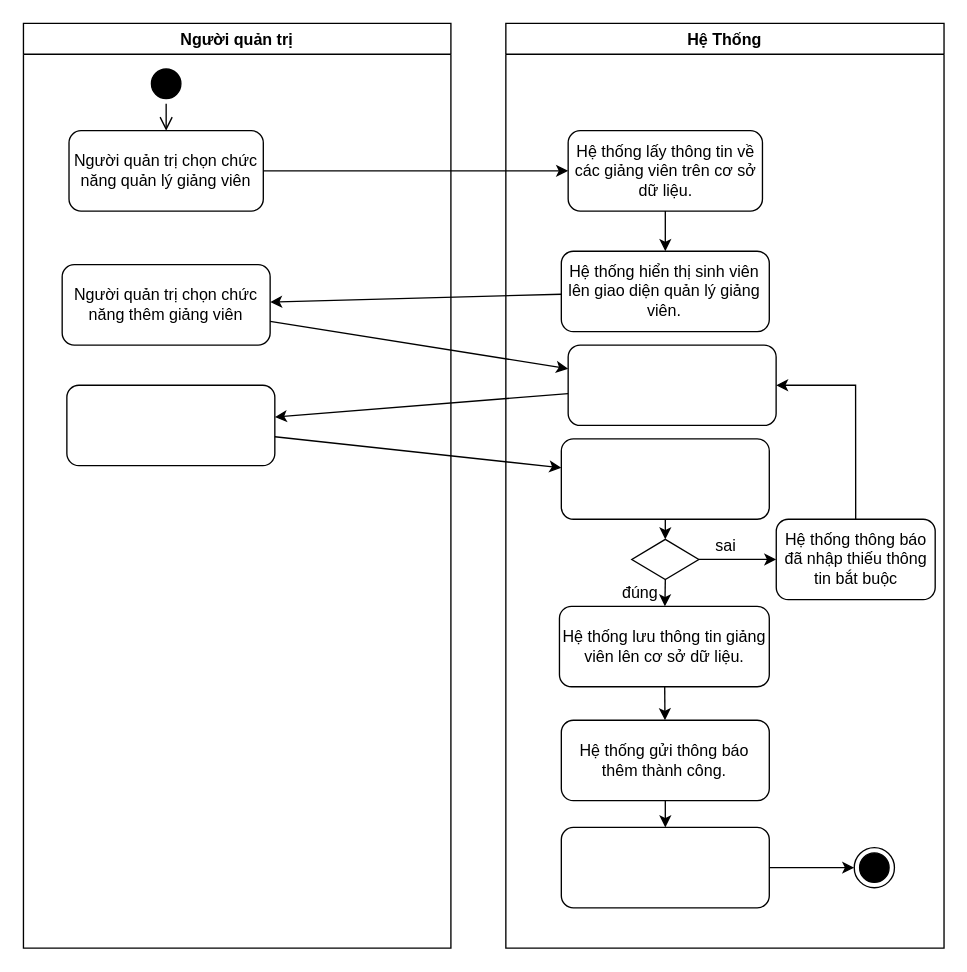
Image size: 967x972. Some labels were removed from this diagram. Each missing label, with the centre of its shape:
"Hệ thống hiển thị giao diện thêm giảng viên." goes at point 671,384.
"Hệ thống hiển trị giao diện quản lý giảng viên." goes at point 664,867.
"Hệ thống kiểm tra thông tin đã nhập của người quản trị" goes at point 664,478.
"Người quản trị điền thông tin cần thiết cho giảng viên và nhấn thêm." goes at point 170,425.
"Đủ" goes at point 664,559.
